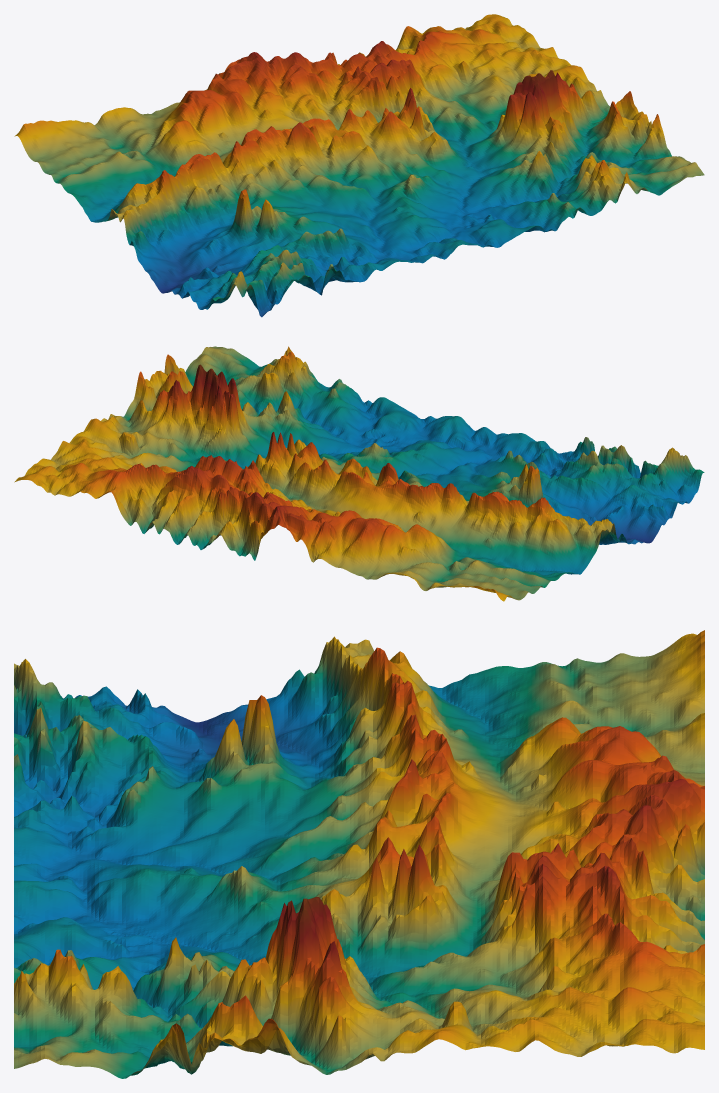
File: pit-terrain.glb
3 renders of one model, top to bottom at view 1: azimuth 30°, elevation 25°; view 2: azimuth 150°, elevation 25°; view 3: azimuth 270°, elevation 25°, orthographic. The views are drawn at different scales.
Size of the model in its own units: 14.4 by 2.75 by 10.23.
